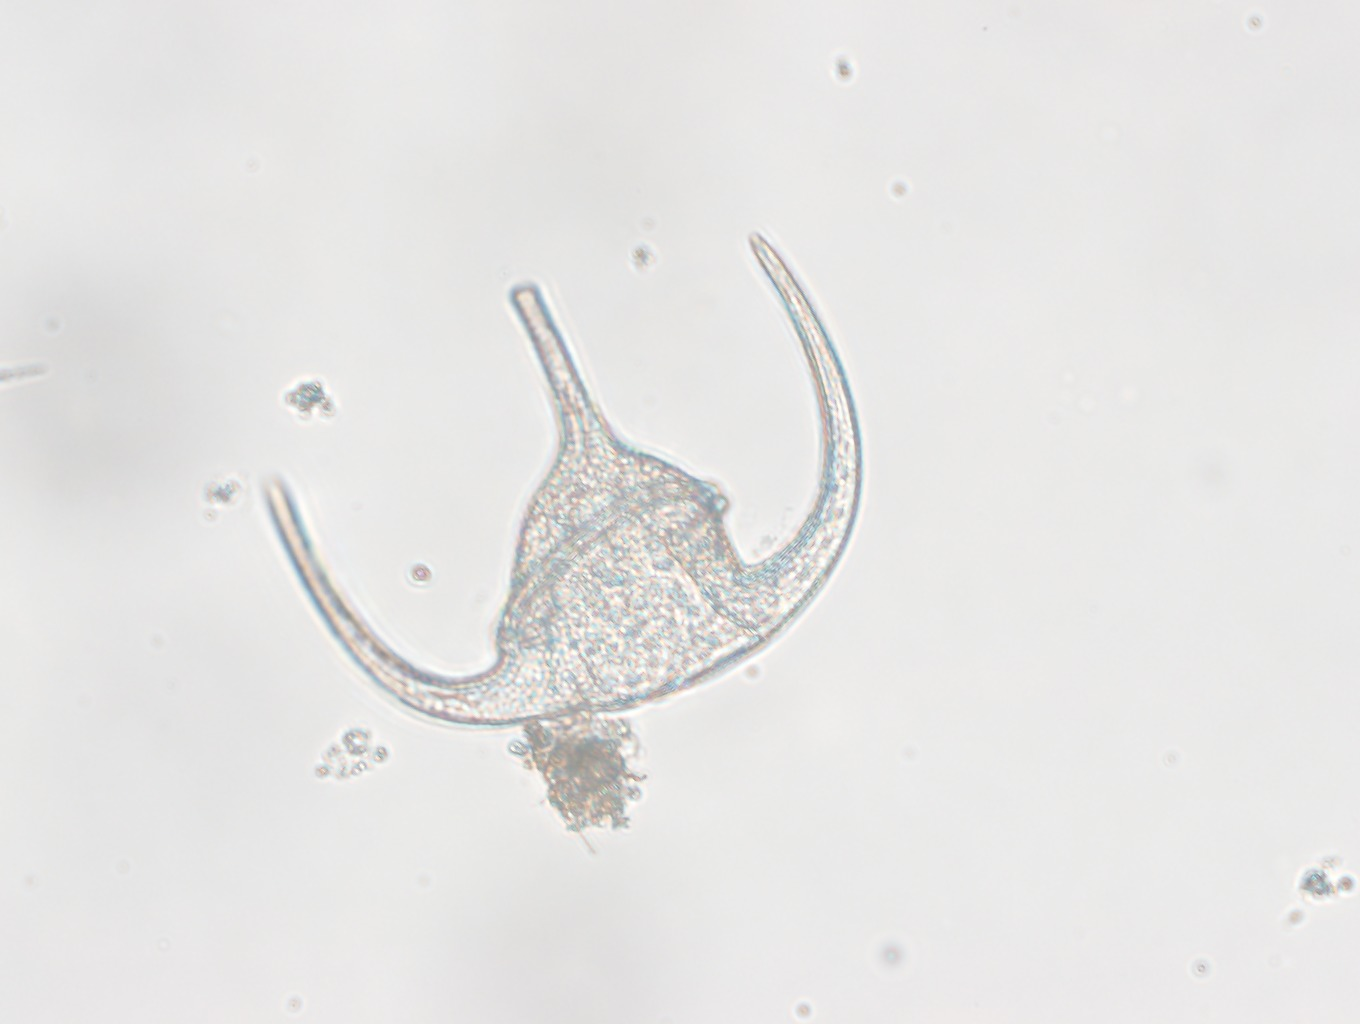ceratium tripos: (261, 231, 863, 728)
